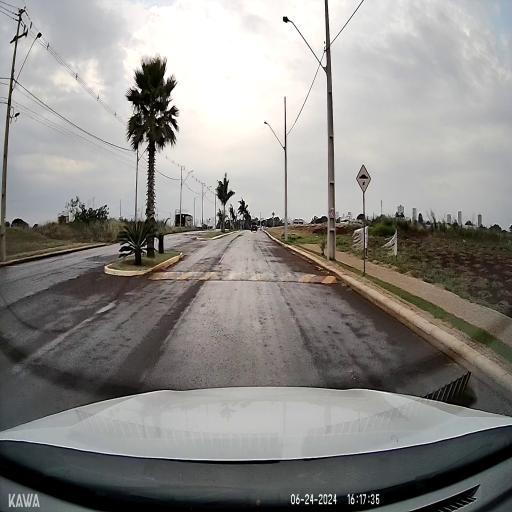A-18: (356, 164, 372, 192)
